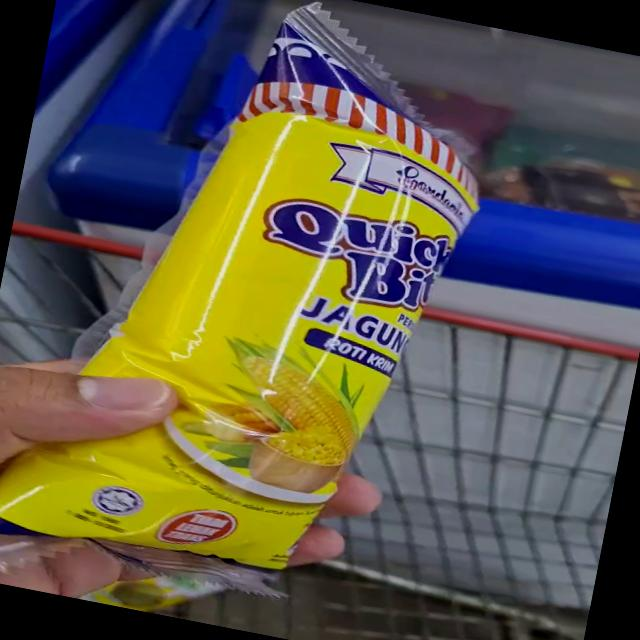Roti: (19, 203, 398, 605), (187, 9, 515, 374)
